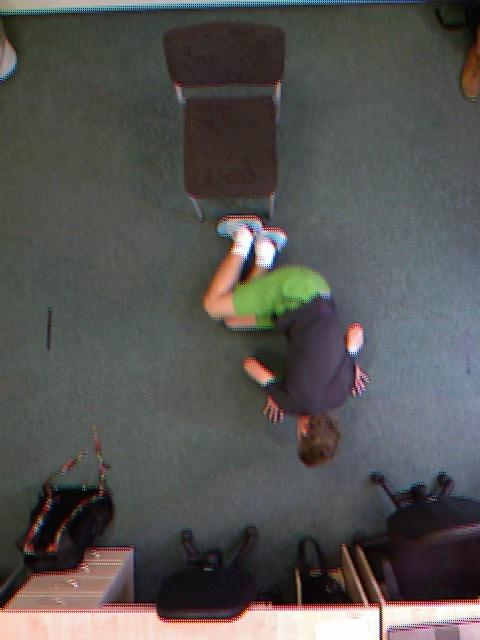fall: (187, 221, 386, 461)
